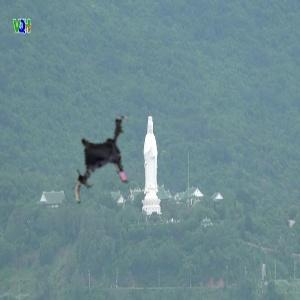drone: (54, 110, 152, 208)
